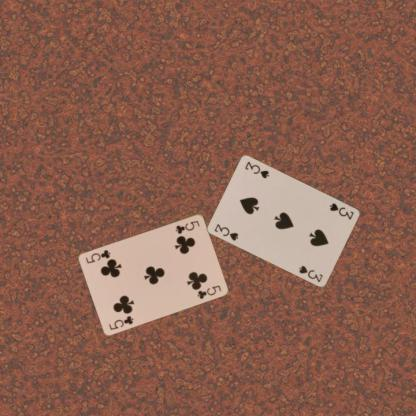3s: (327, 200, 355, 221), (212, 221, 240, 242)
5c: (106, 312, 135, 330), (173, 218, 200, 234)
